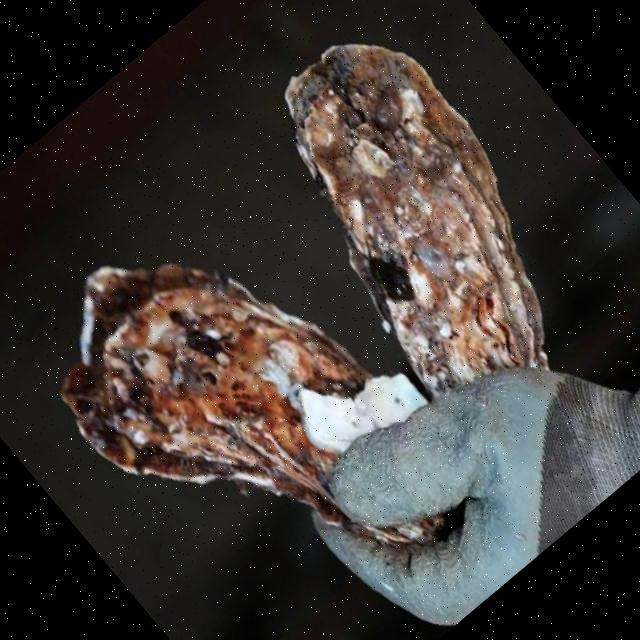Oyster-Closed: (59, 262, 451, 550), (285, 42, 547, 396)
